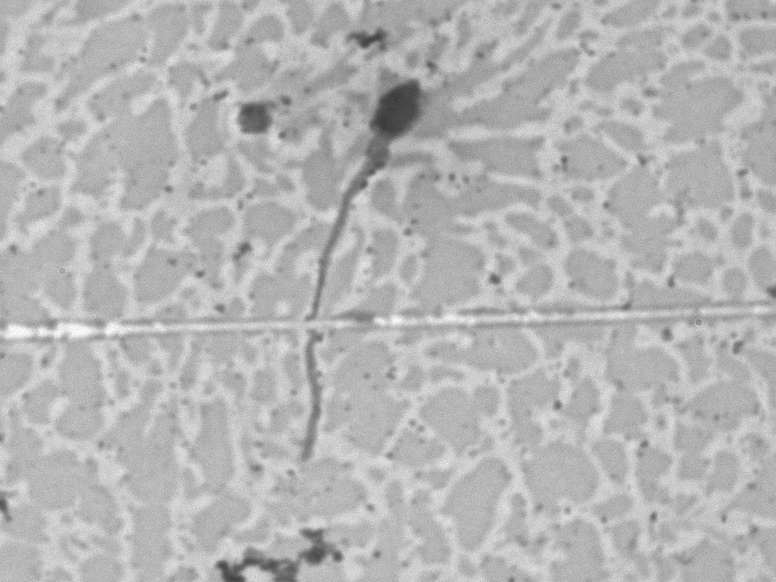Abnormal: (284, 53, 436, 479)
